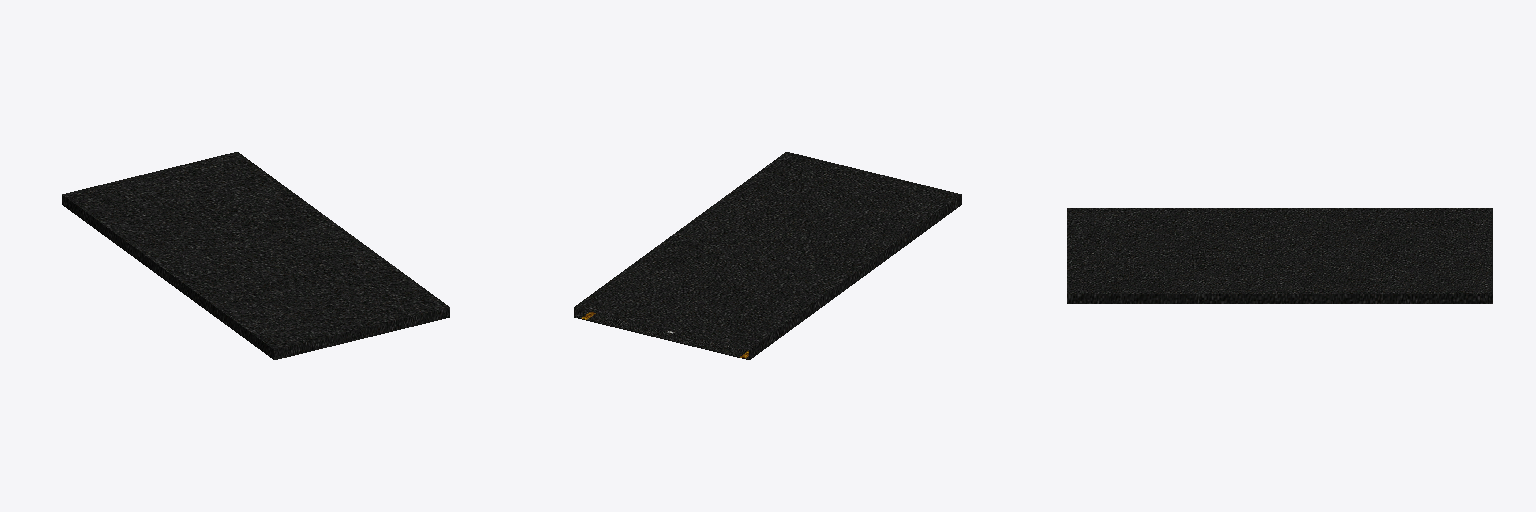
3 views of the same model, side by side, from view 1: azimuth 30°, elevation 25°; view 2: azimuth 150°, elevation 25°; view 3: azimuth 270°, elevation 25° (orthographic).
Visible parts, largest first — view 1: road; view 2: road; view 3: road.
Boxes of the visible parts, x1=… form: road: x1=62, y1=152, x2=449, y2=359; road: x1=574, y1=152, x2=961, y2=359; road: x1=1067, y1=208, x2=1492, y2=303.
Bounding box in the file's own units: 4.16 × 0.2372 × 8.73.
Materials: 1 (1 with a texture image).